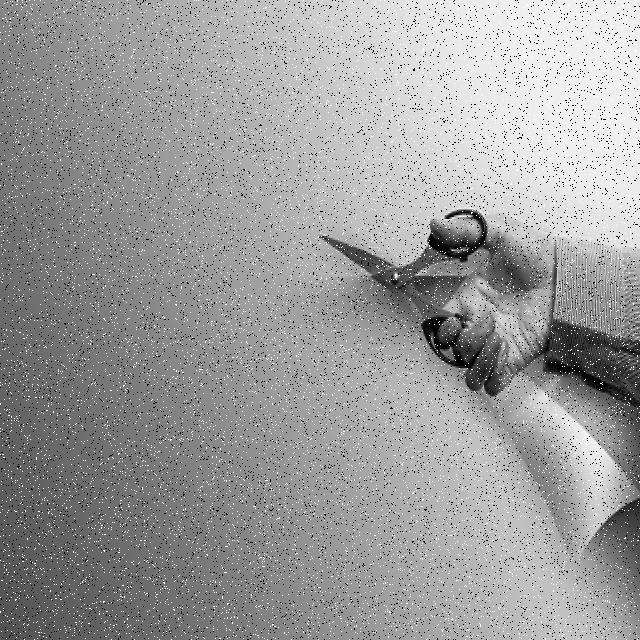scissors: (316, 206, 497, 376)
